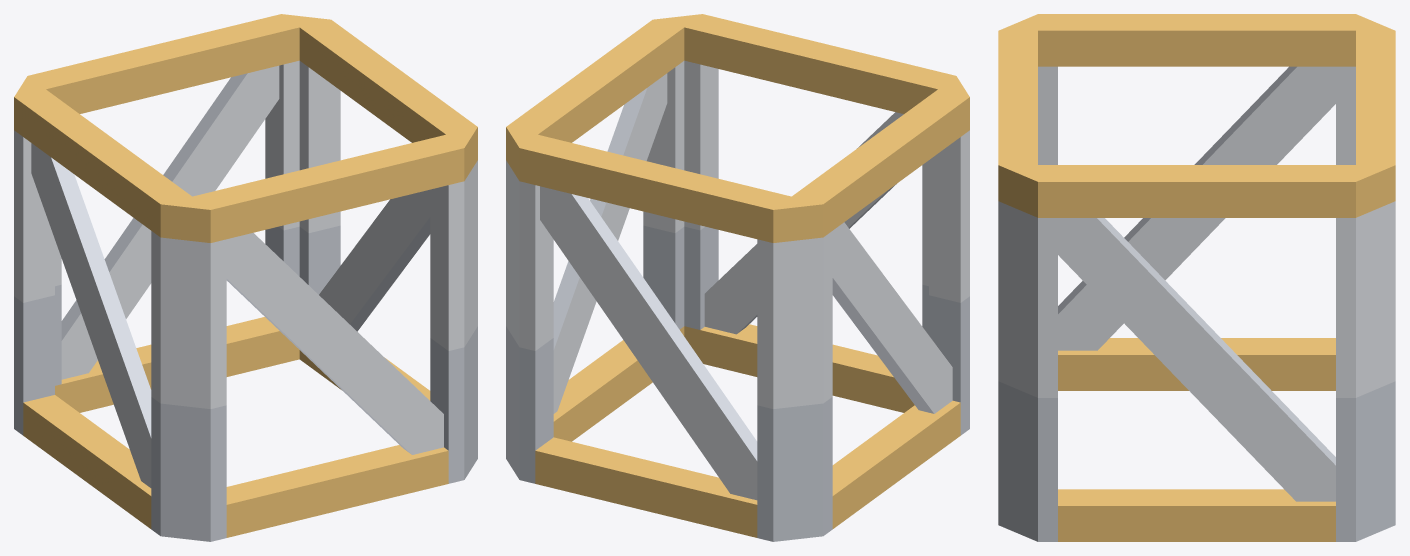
The model's file is structure_diagonal.glb.
3 views of the same model, side by side, from view 1: azimuth 30°, elevation 25°; view 2: azimuth 150°, elevation 25°; view 3: azimuth 270°, elevation 25° (orthographic). The views are drawn at different scales.
Visible parts, largest first — view 1: structure_diagonal; view 2: structure_diagonal; view 3: structure_diagonal.
Boxes of the visible parts, x1,y1,x2,y2 form: structure_diagonal: [14, 14, 477, 541]; structure_diagonal: [506, 14, 969, 541]; structure_diagonal: [998, 14, 1395, 541].
Size of the model in its own units: 1 by 1 by 1.
